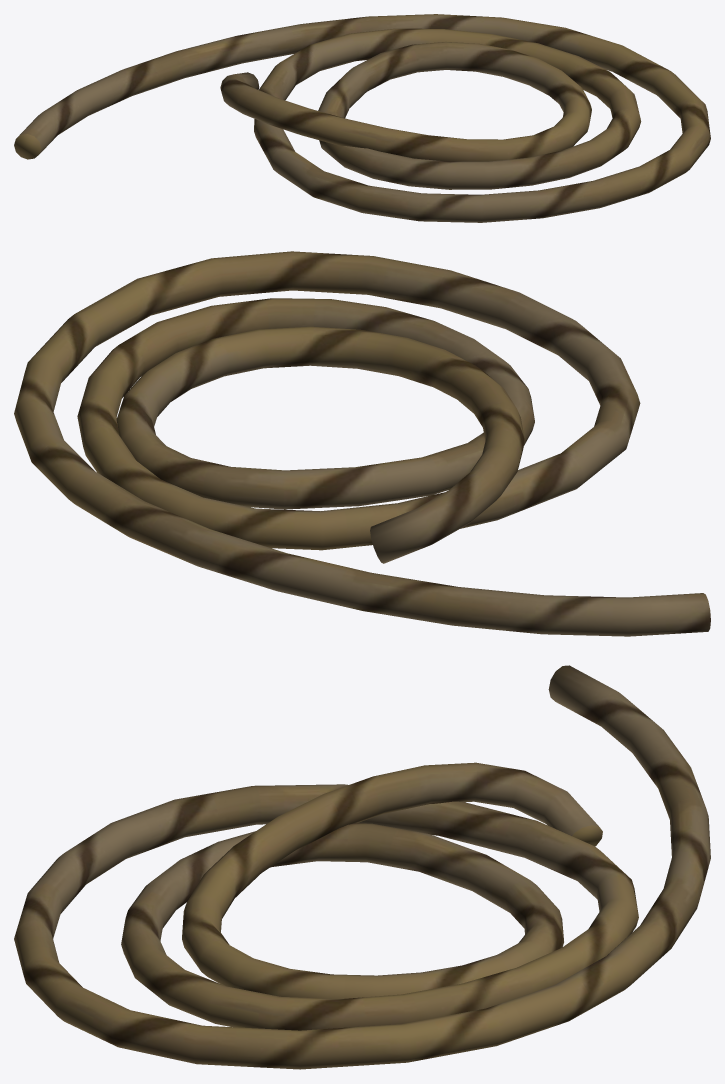
The model's file is Rope_3.gltf.
The picture shows the model from 3 angles, top to bottom: view 1: azimuth 30°, elevation 25°; view 2: azimuth 150°, elevation 25°; view 3: azimuth 270°, elevation 25°; orthographic projection. The views are drawn at different scales.
Visible parts, largest first — view 1: Rope_3; view 2: Rope_3; view 3: Rope_3.
Part boxes in pixels (<box>): Rope_3: <box>14,14,710,222</box>; Rope_3: <box>14,251,710,636</box>; Rope_3: <box>14,665,710,1069</box>.
Size of the model in its own units: 1.23 by 0.1018 by 0.9508.
1 material, 1 textured.
